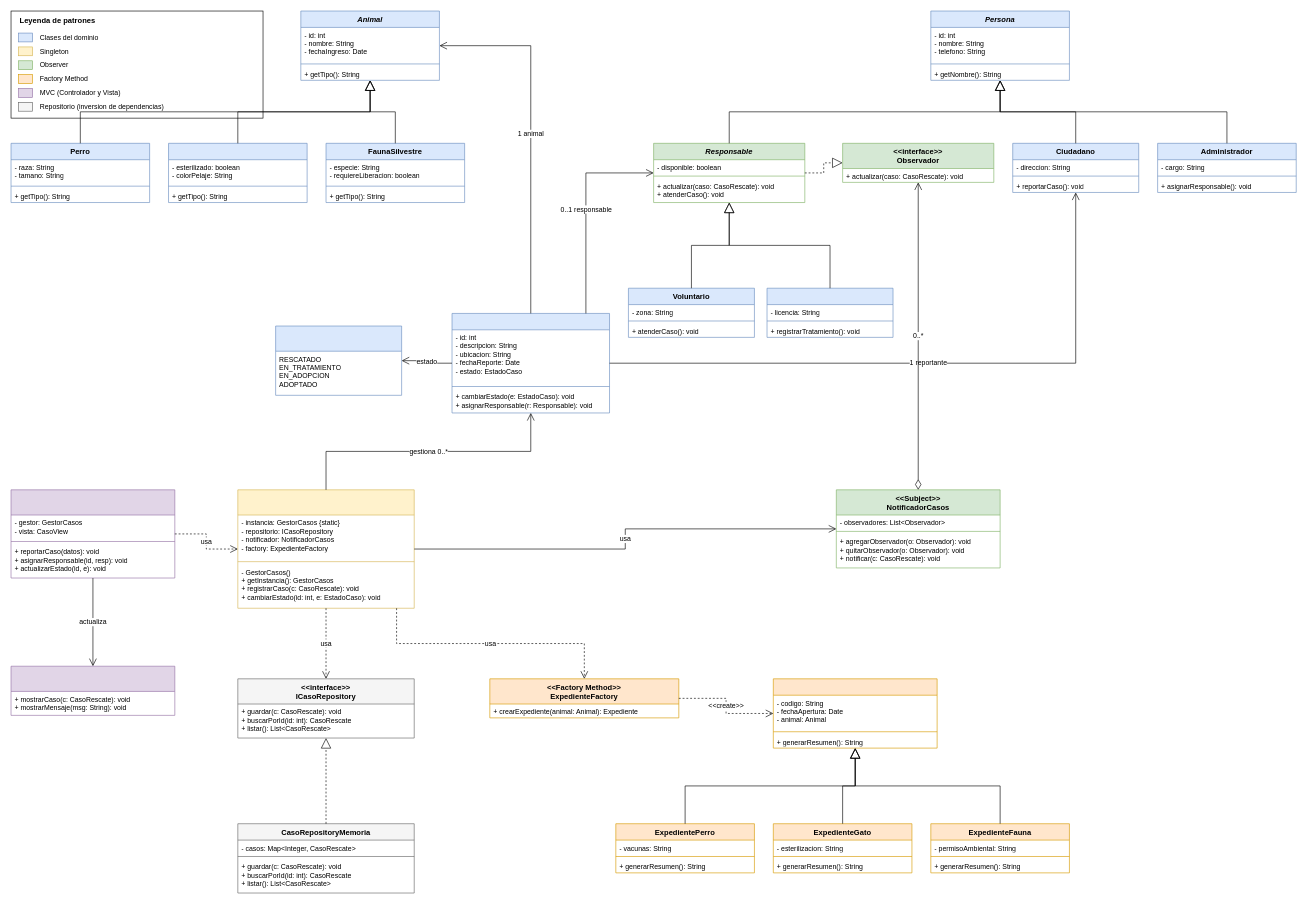
This 1307x906 diagram has some shape labels left out. Here are the shapes that lost their labels. From the top down, the box of each, then its label:
(168, 143, 307, 203): Gato
(766, 288, 893, 337): Veterinario
(275, 325, 402, 395): <<enumeration>> EstadoCaso
(451, 313, 610, 413): CasoRescate
(10, 489, 175, 578): <<Controller>> CasoController
(237, 489, 414, 608): <<Singleton>> GestorCasos
(10, 666, 175, 715): <<View>> CasoView
(773, 678, 937, 748): Expediente
